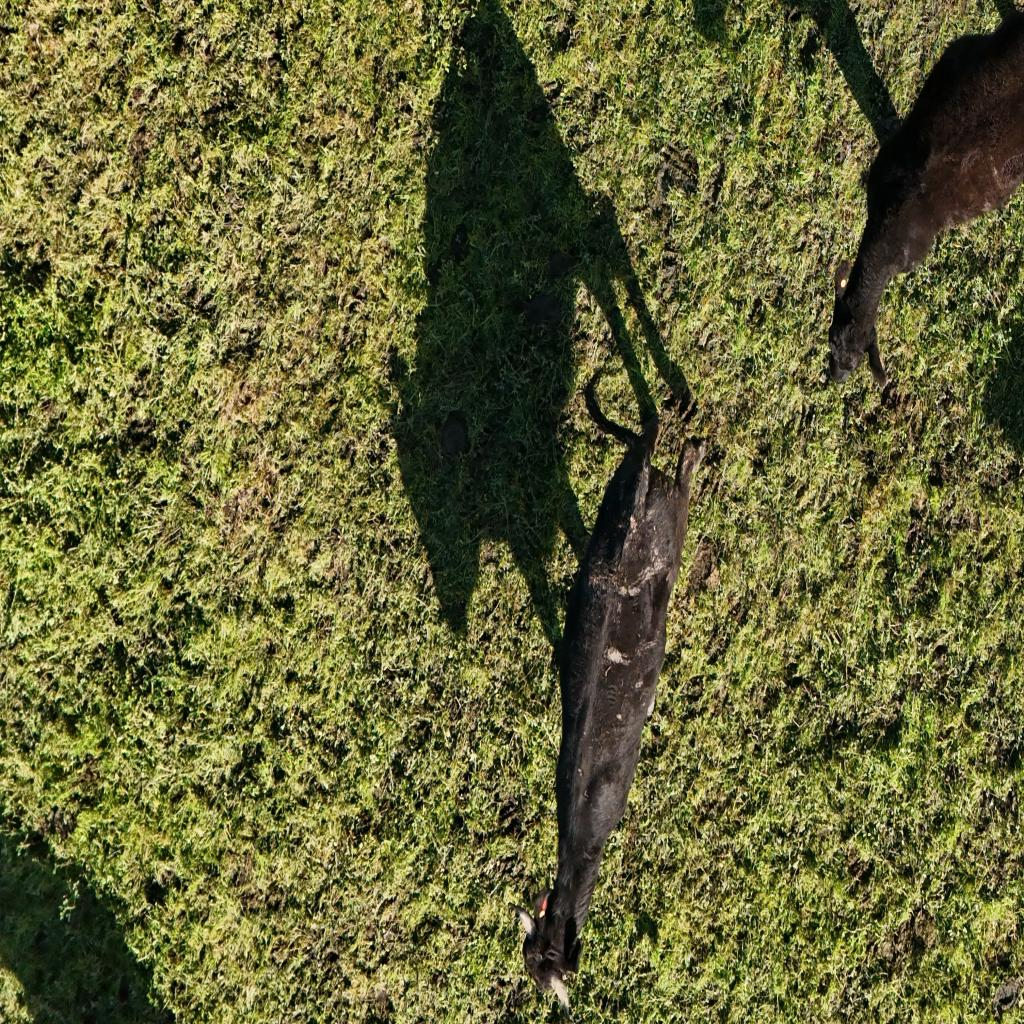cow: (511, 370, 700, 1012), (807, 0, 1024, 421)
